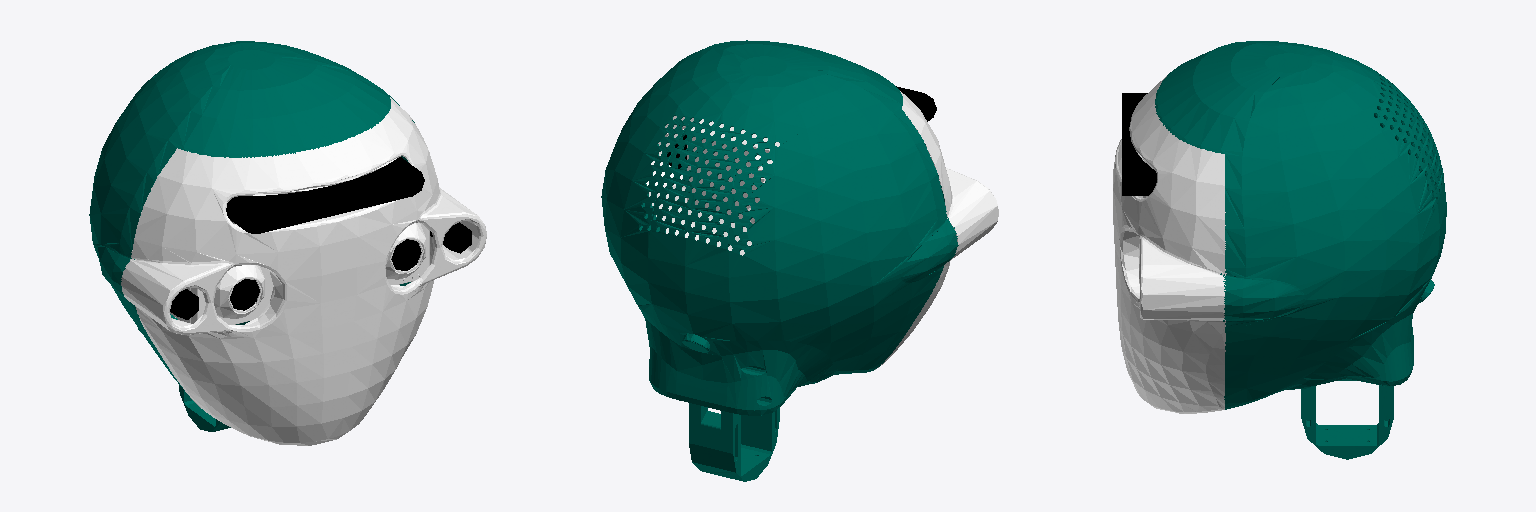
3 renders of one model, left to right at view 1: azimuth 30°, elevation 25°; view 2: azimuth 150°, elevation 25°; view 3: azimuth 270°, elevation 25°, orthographic.
Size of the model in its own units: 0.3219 by 0.365 by 0.2861.
1 materials, 1 textured.